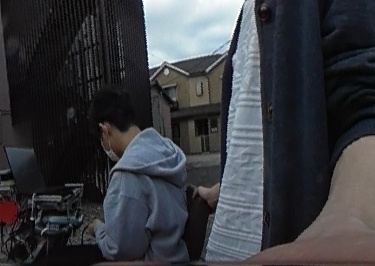person: (66, 88, 191, 266)
